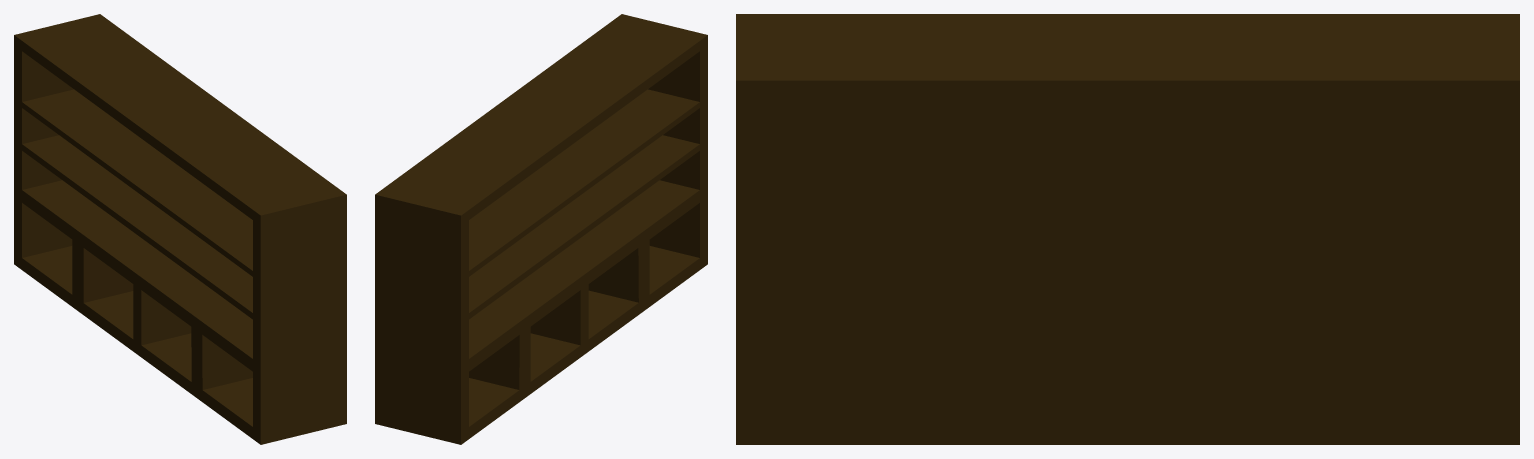
Rendered from Shelves.fbx.
3 views of the same model, side by side, from view 1: azimuth 30°, elevation 25°; view 2: azimuth 150°, elevation 25°; view 3: azimuth 270°, elevation 25° (orthographic). The views are drawn at different scales.
Visible parts, largest first — view 1: Shelves; view 2: Shelves; view 3: Shelves.
Boxes of the visible parts, <box> form: Shelves: <box>14,14,346,444</box>; Shelves: <box>375,14,707,444</box>; Shelves: <box>736,14,1519,444</box>.
Size of the model in its own units: 607 by 1545 by 3013.
